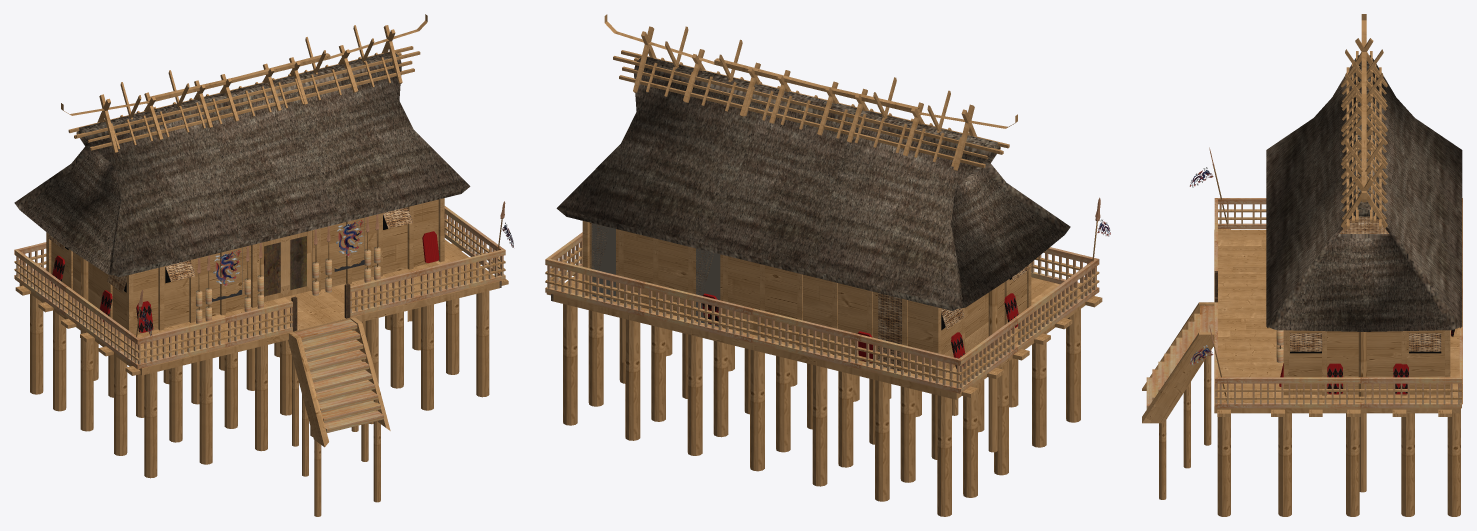
File: yayoi_cc.dae
3 renders of one model, left to right at view 1: azimuth 30°, elevation 25°; view 2: azimuth 150°, elevation 25°; view 3: azimuth 270°, elevation 25°, orthographic. The views are drawn at different scales.
Visible parts, largest first — view 1: cc; view 2: cc; view 3: cc.
Boxes of the visible parts, x1,y1,x2,y2 form: cc: (14, 14, 513, 516); cc: (545, 14, 1110, 516); cc: (1142, 14, 1462, 516).
Bounding box in the file's own units: 28.64 × 21.01 × 27.39.
